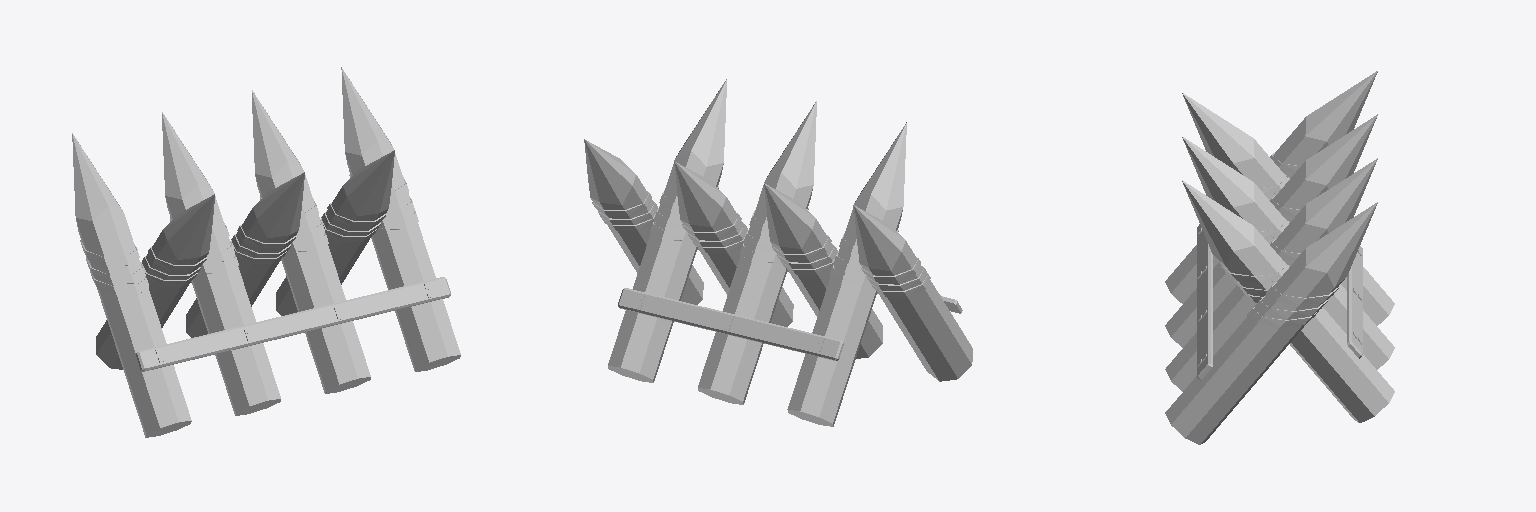
The model's file is Spikes_1.obj.
The picture shows the model from 3 angles: view 1: azimuth 30°, elevation 25°; view 2: azimuth 150°, elevation 25°; view 3: azimuth 270°, elevation 25°; orthographic projection.
Visible parts, largest first — view 1: Spikes_1; view 2: Spikes_1; view 3: Spikes_1.
Part boxes in pixels (bbox=[...]): Spikes_1: bbox=[72, 67, 460, 437]; Spikes_1: bbox=[584, 79, 972, 426]; Spikes_1: bbox=[1165, 71, 1394, 444].
Bounding box in the file's own units: 1.24 × 0.8972 × 0.779.